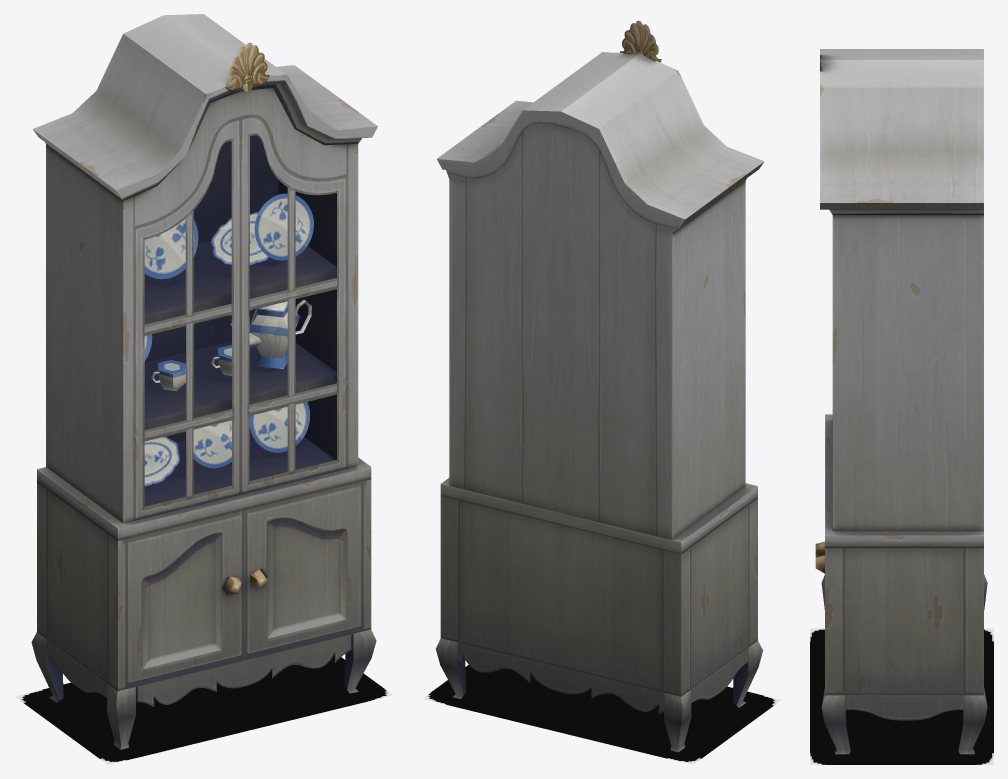
Rendered from jj_ty_guizi04.FBX.
3 views of the same model, side by side, from view 1: azimuth 30°, elevation 25°; view 2: azimuth 150°, elevation 25°; view 3: azimuth 270°, elevation 25° (orthographic). The views are drawn at different scales.
Visible parts, largest first — view 1: jj_ty_guizi04, shadow; view 2: jj_ty_guizi04, shadow; view 3: jj_ty_guizi04, shadow.
Part boxes in pixels (<box>): jj_ty_guizi04: <box>31,14,377,749</box>; shadow: <box>14,654,392,764</box>; jj_ty_guizi04: <box>436,20,764,752</box>; shadow: <box>422,665,781,764</box>; jj_ty_guizi04: <box>815,49,987,754</box>; shadow: <box>810,628,993,764</box>.
Size of the model in its own units: 110 by 254 by 62.54.
